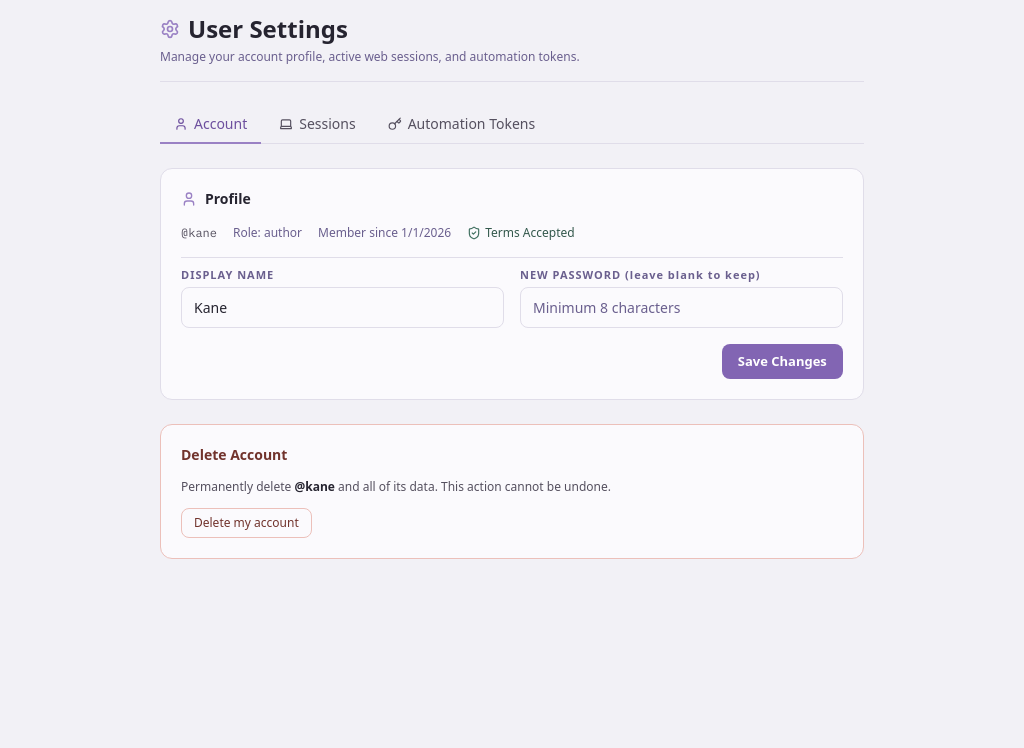
Test case: SettingsPage › renames and rescopes a token inline
This screenshot has width=1024, height=748.
Click the tab "Automation Tokens" at (461, 125), box [374, 106, 549, 144]
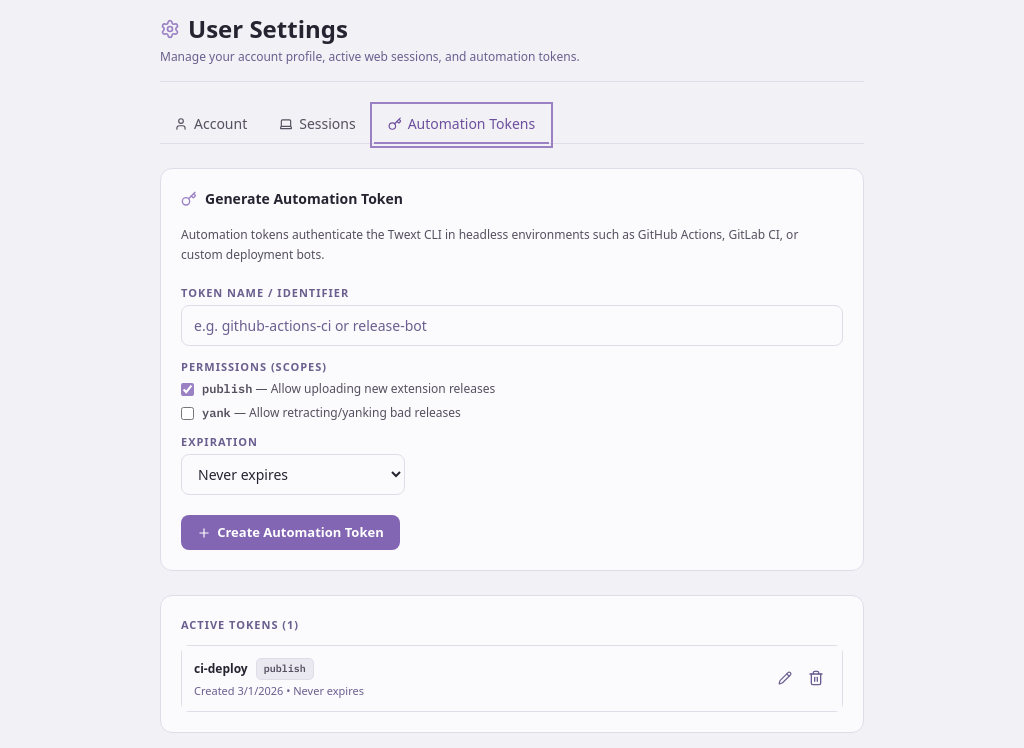
Check: the heading "Active Tokens (1)" is shown, box [181, 617, 299, 632]
Click the button titled "Edit Token" at (785, 678), box [772, 666, 798, 692]
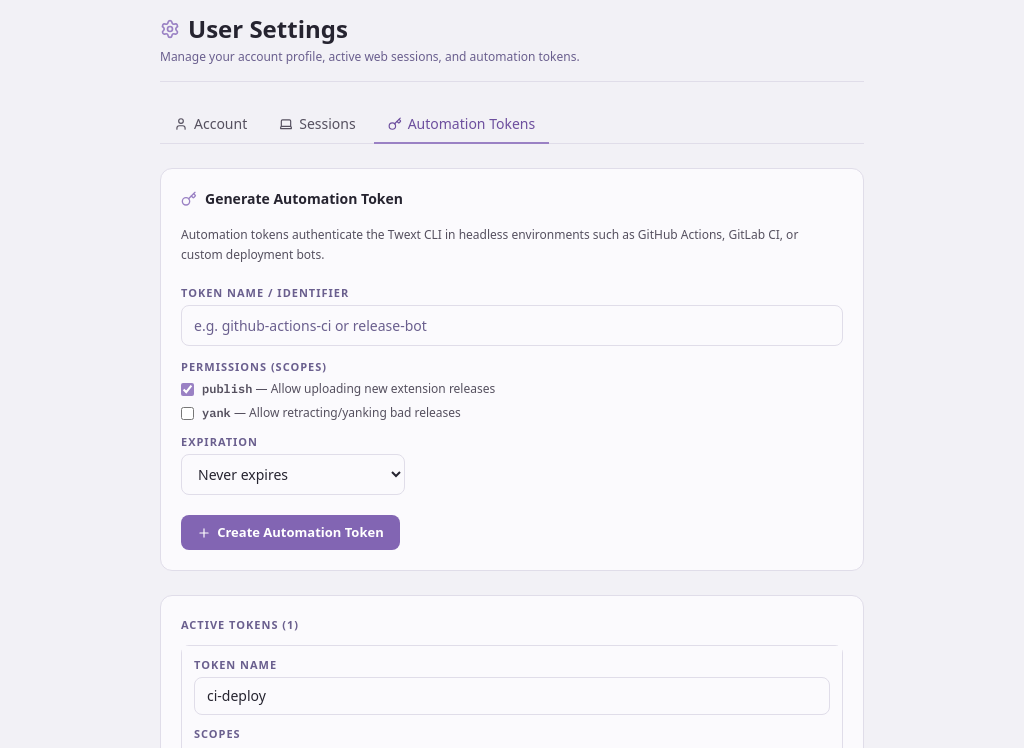
Replace the text in the field showing "ci-deploy" with "renamed" at (512, 696), box [194, 677, 830, 715]
(page scrolled)
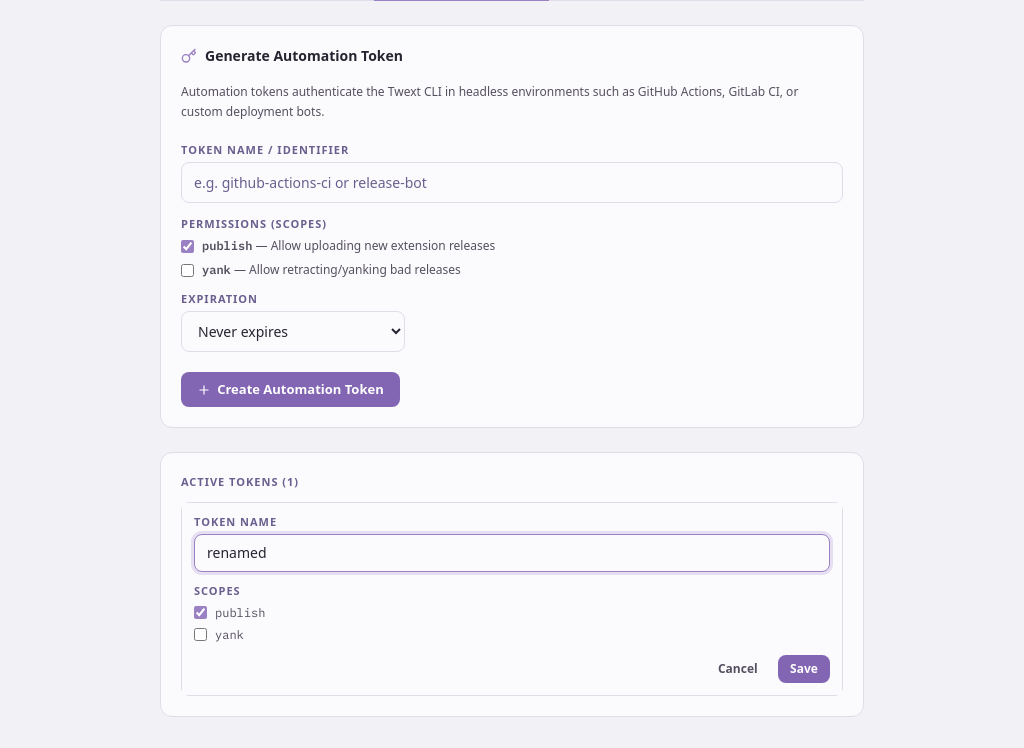
Click the checkbox labelled "yank" at (200, 635), box [194, 628, 207, 641]
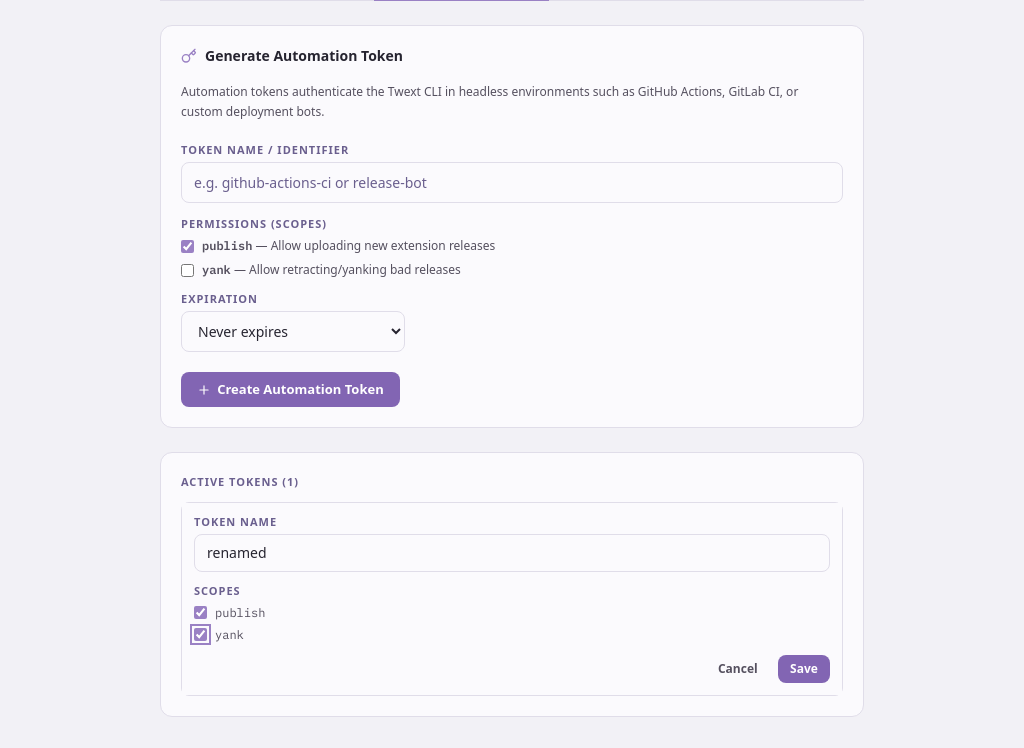
Click the button "Save" at (804, 669), box [778, 655, 830, 683]
(page scrolled)
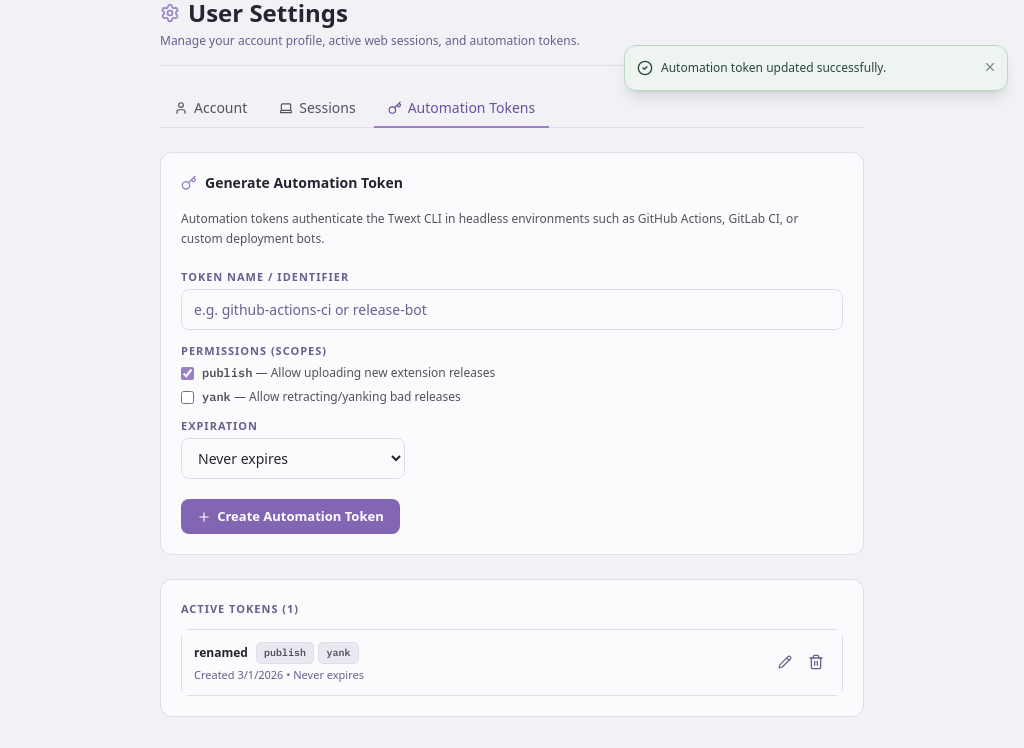
Check: the text "Automation token updated successfully." is shown, box [661, 59, 886, 76]
